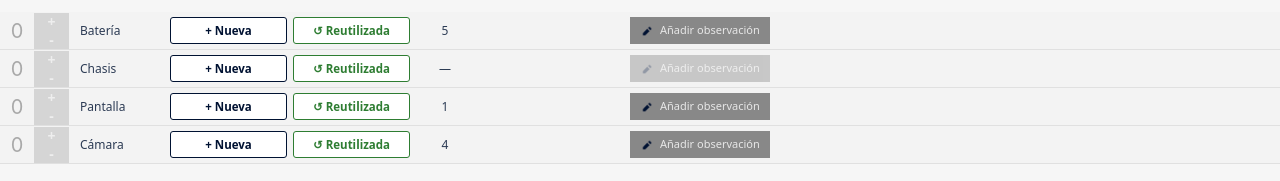
it: 0.9.19 · la elección en la celda del SKU (spec §2) › «Nueva»: desplegable, contador en 1, «5 → 4» y marca con «×» que vuelve atrás
The image size is (1280, 181).
Click the button with aria-label "Nueva Batería" at (228, 30), box [170, 17, 287, 44]
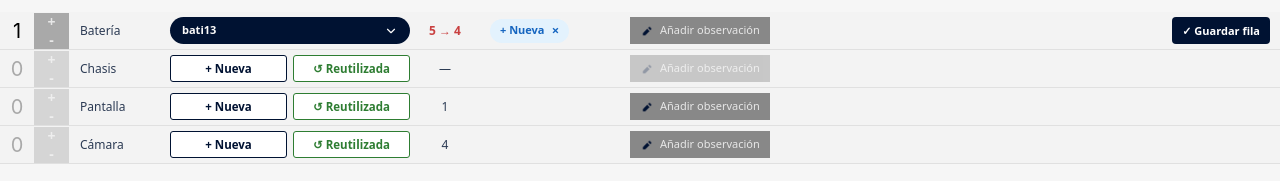
Now the dropdown named "SKU de Batería" reads "bati13", box [170, 17, 410, 44]
Now the text with test id "contador-bat" reads "1", box [13, 18, 21, 42]
Now the text with test id "stock-bat" reads "5 → 4", box [429, 22, 461, 38]
Click the button named "Volver atrás Batería" at (556, 30), box [546, 22, 564, 40]
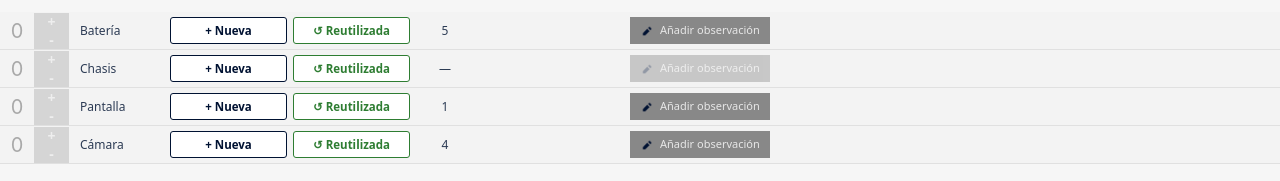
Expected: the button with aria-label "Nueva Batería" is shown, [170, 17, 287, 44]
Now the text with test id "contador-bat" reads "0", box [11, 18, 23, 42]
